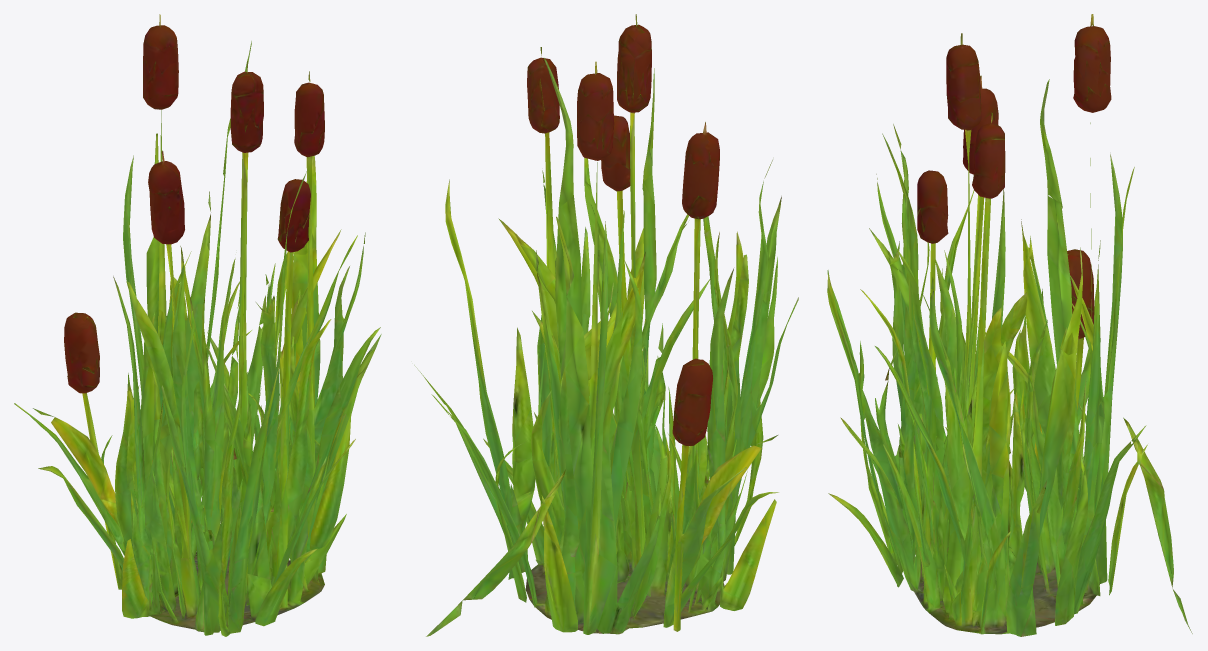
The model's file is prop-reeds.glb.
3 renders of one model, left to right at view 1: azimuth 30°, elevation 25°; view 2: azimuth 150°, elevation 25°; view 3: azimuth 270°, elevation 25°, orthographic. The views are drawn at different scales.
Bounding box in the file's own units: 1.29 × 1.91 × 1.12.
1 material, 1 textured.
